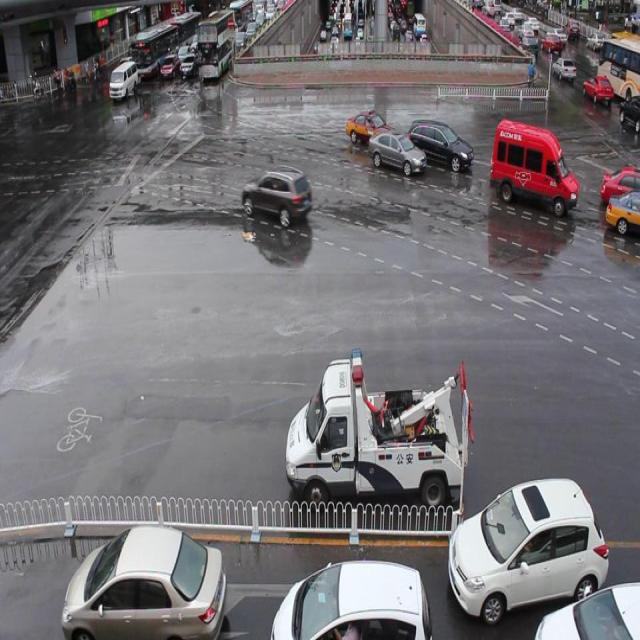bus: (285, 343, 473, 512)
car: (448, 476, 608, 620), (65, 521, 226, 640), (273, 558, 430, 640), (534, 579, 640, 640), (242, 166, 311, 224), (407, 114, 472, 169), (368, 130, 424, 175), (347, 106, 398, 148), (606, 186, 640, 237), (600, 163, 640, 206)
truck: (490, 115, 578, 213)
